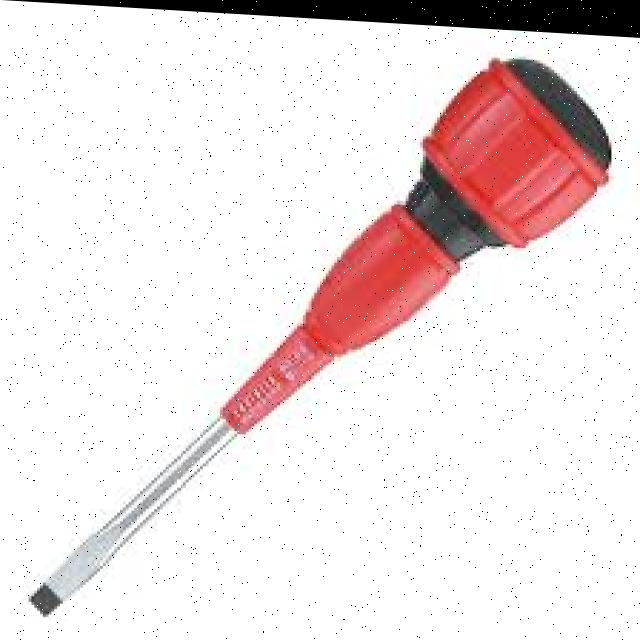Screwdriver: (31, 54, 611, 615)
